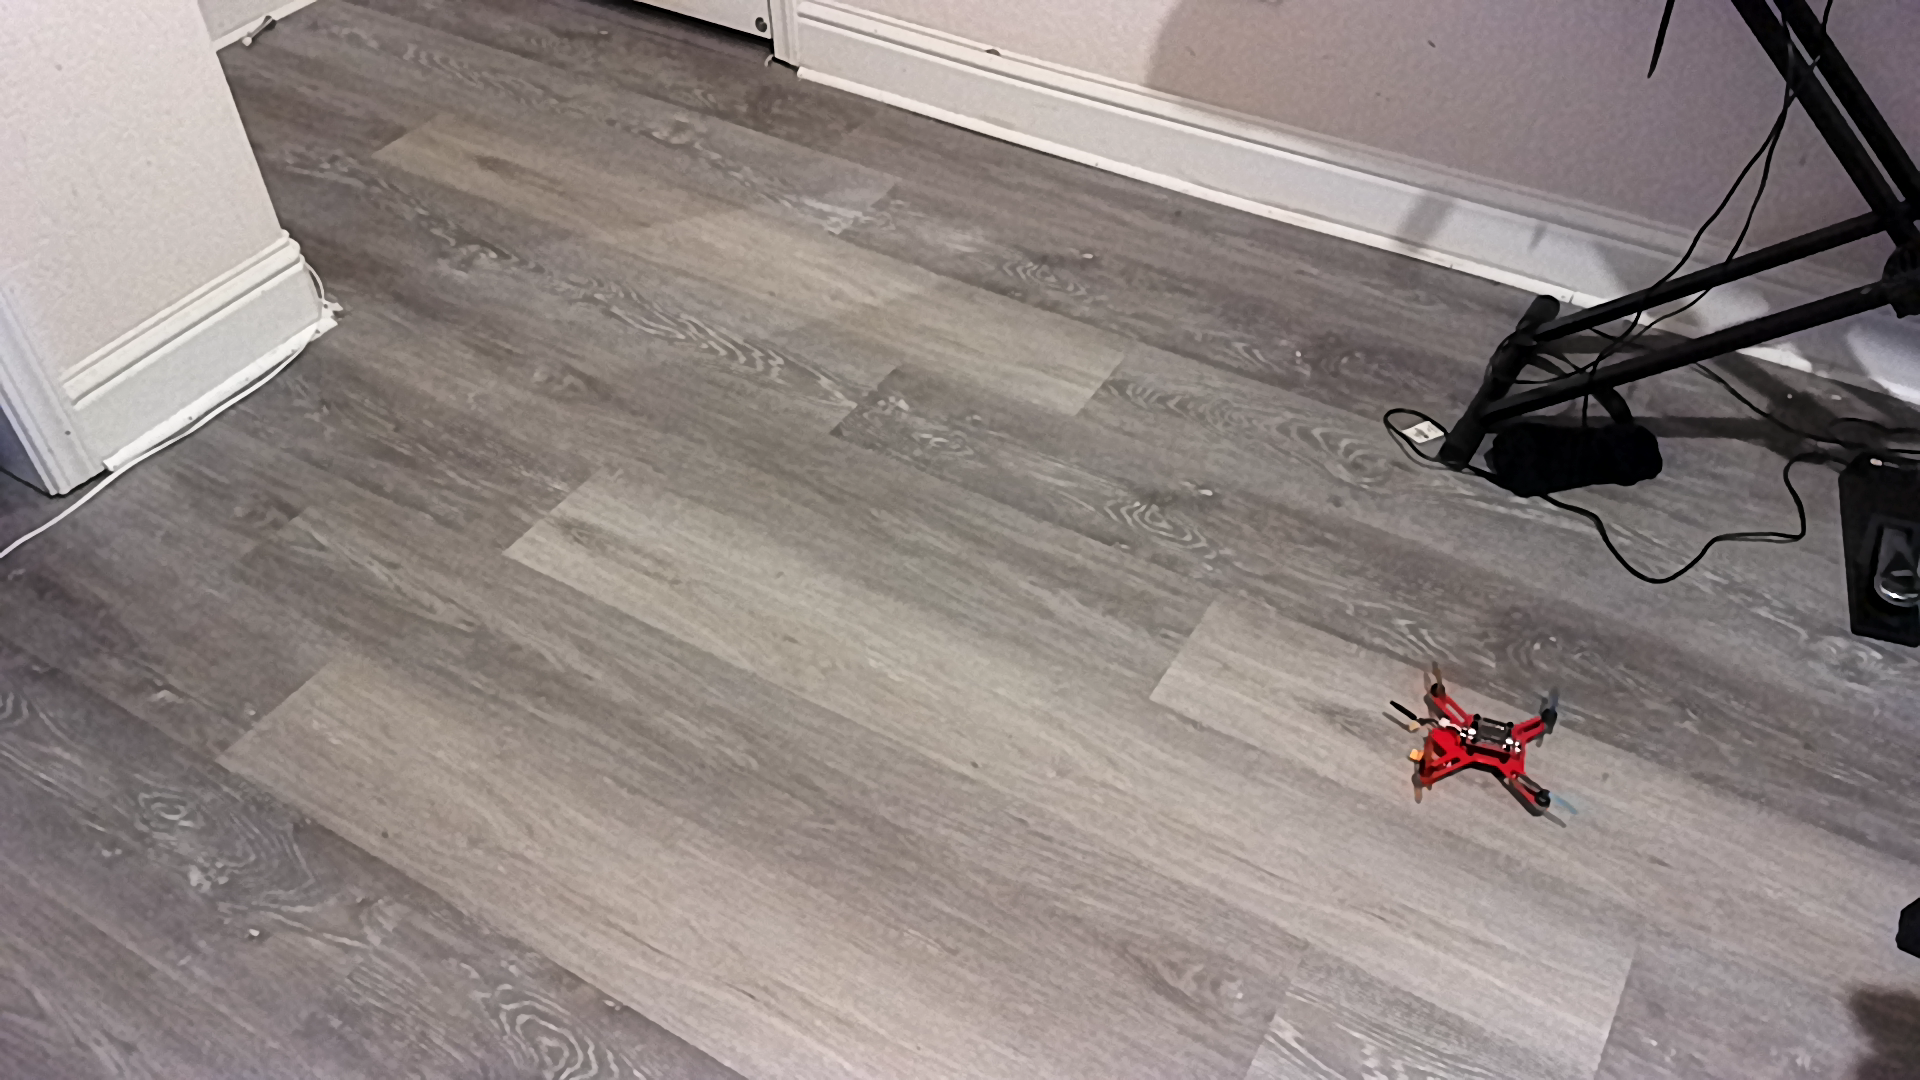drone: (1379, 645, 1593, 837)
